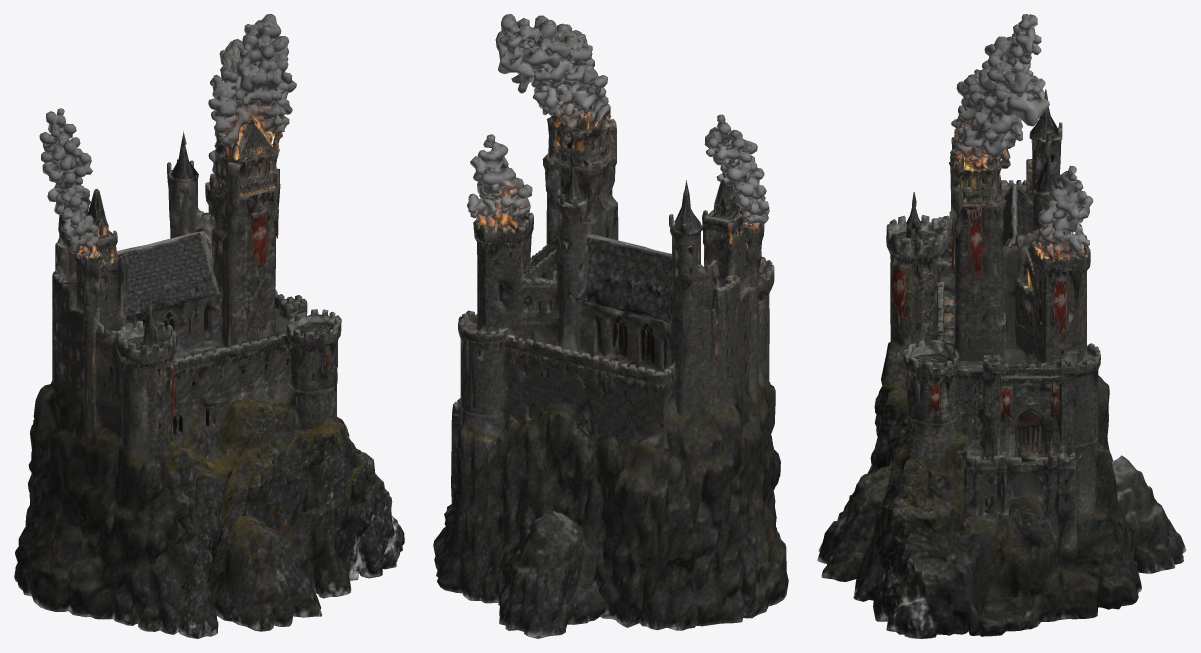
Rendered from burning-castle.glb.
3 renders of one model, left to right at view 1: azimuth 30°, elevation 25°; view 2: azimuth 150°, elevation 25°; view 3: azimuth 270°, elevation 25°, orthographic. The views are drawn at different scales.
Bounding box in the file's own units: 1.27 × 1.9 × 1.2.
1 material, 1 textured.
